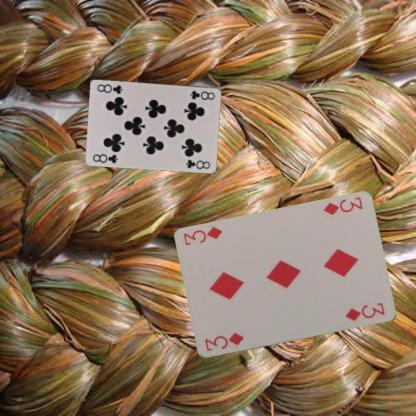3d: (202, 330, 246, 352), (320, 194, 364, 216)
8c: (188, 88, 216, 102), (90, 152, 120, 164)
